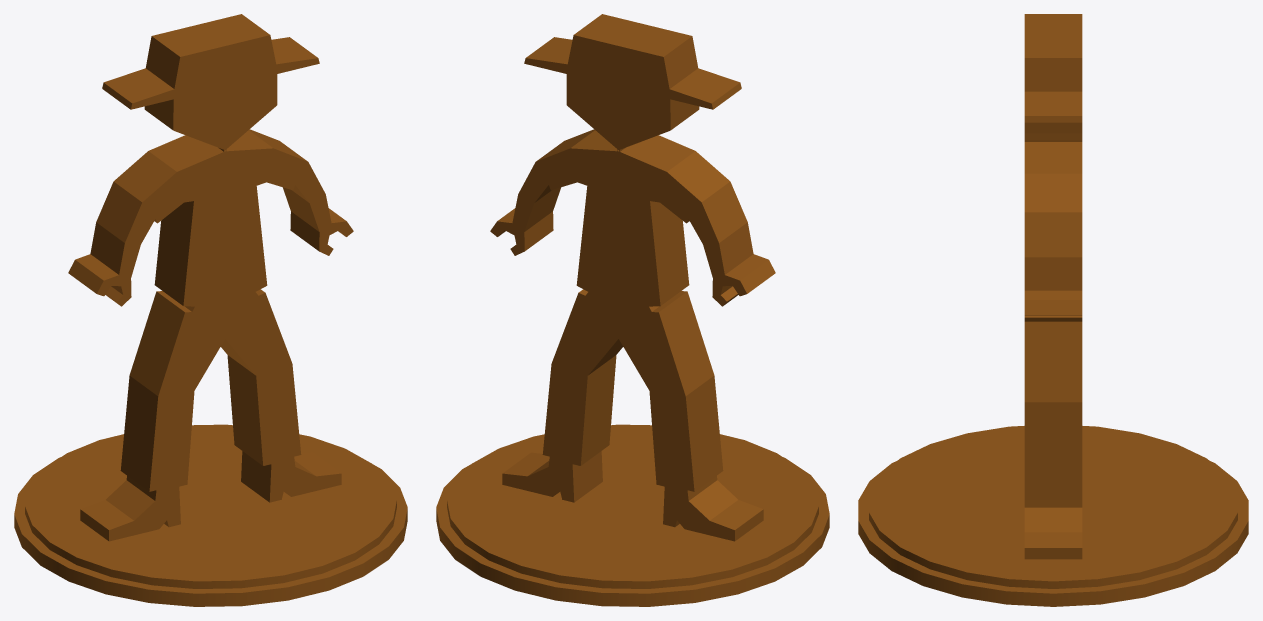
File: killian.gltf
The picture shows the model from 3 angles, left to right: view 1: azimuth 30°, elevation 25°; view 2: azimuth 150°, elevation 25°; view 3: azimuth 270°, elevation 25°; orthographic projection.
Visible parts, largest first — view 1: Aie ioub; view 2: Aie ioub; view 3: Aie ioub.
Part boxes in pixels (x1,y1,x2,y2): Aie ioub: (14,14,407,606); Aie ioub: (436,14,829,606); Aie ioub: (858,14,1248,606).
Size of the model in its own units: 0.6339 by 0.8675 by 0.6292.
